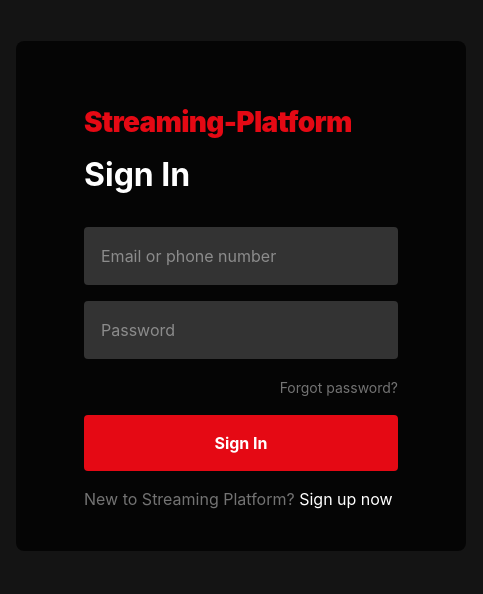
Login page › should show validation errors when fields are empty
Click the button "Sign In".
click(241, 443)  # box [84,415,398,471]
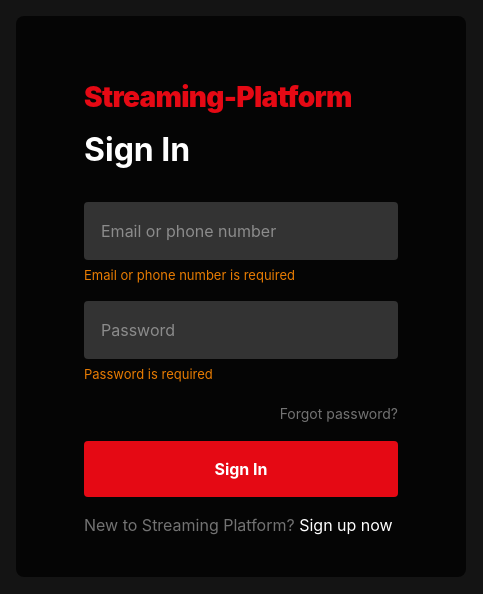
Now the text "Email or phone number is required" is shown, box [84,266,295,282]
Now the text "Password is required" is shown, box [84,366,213,382]
